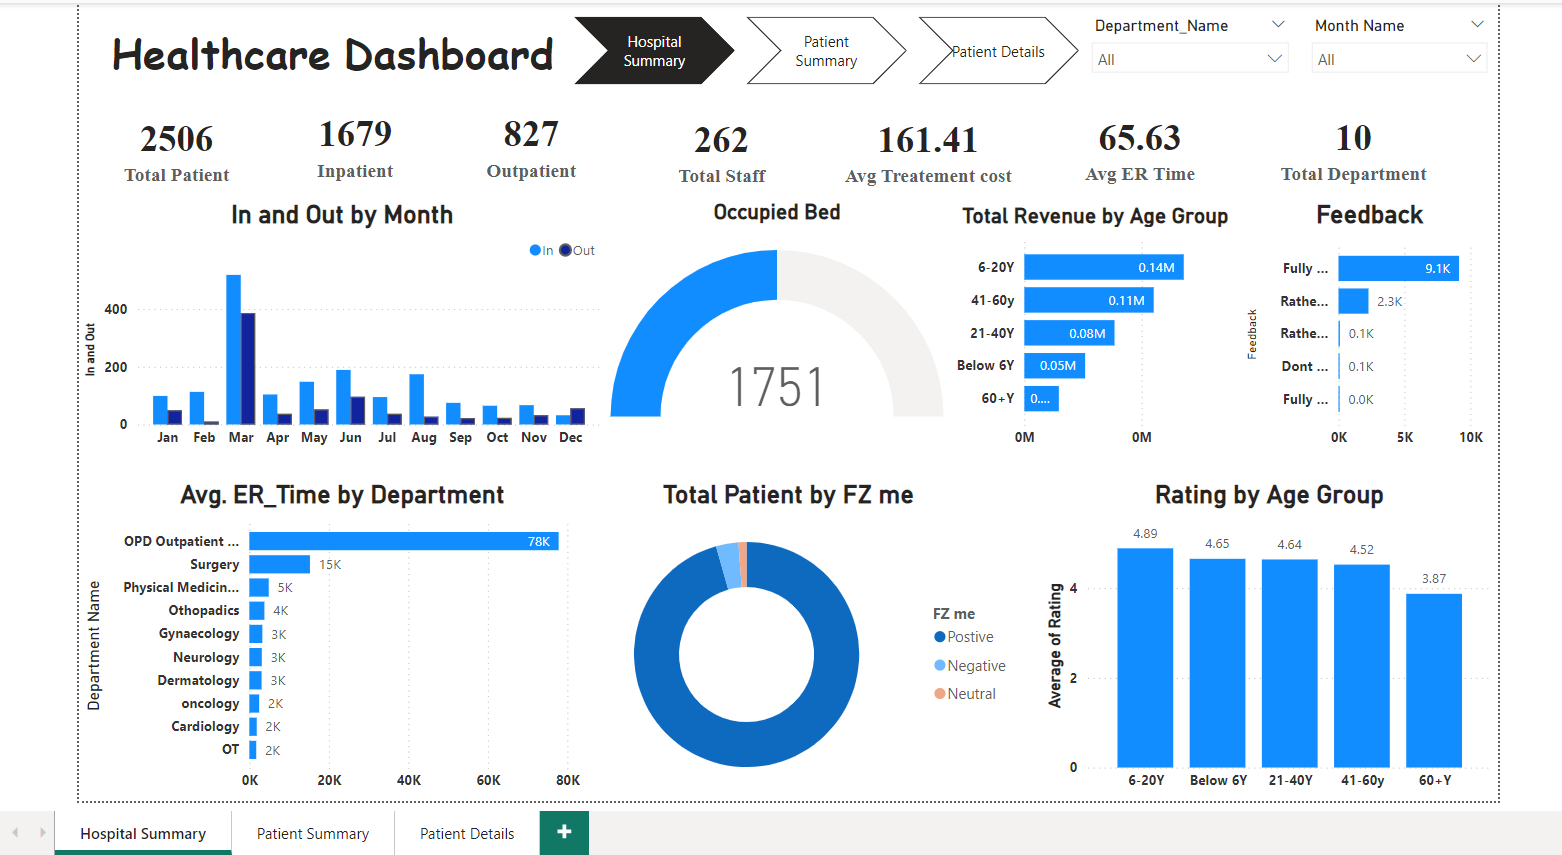

This screenshot's page, from the dashboard's own definition file:
{"tool":"powerbi","page":{"name":"Dashboard","canvas":[1280,720],"ordinal":0},"visuals":[{"type":"card","fields":{"Values":["CountNonNull(Detail data dataset.ID)"]},"box":[9.8,72.2,132,140.4],"z":0,"group":"g1"},{"type":"textbox","box":[9.8,16,452.2,65.1],"z":0},{"type":"card","fields":{"Values":["Detail data dataset.Total Inpatient"]},"box":[150.2,71.3,144.9,140.4],"z":1000,"group":"g1"},{"type":"slicer","fields":{"Values":["Department.Department_Name"]},"box":[818.3,16,197.8,61.4],"z":1000},{"type":"card","fields":{"Values":["Detail data dataset.Total Outpatient"]},"box":[302.3,75,144.9,140.4],"z":2000,"group":"g1"},{"type":"slicer","box":[1045.4,13.5,179.6,66.3],"z":2000},{"type":"card","fields":{"Values":["CountNonNull(Staff_Detail.Staff_Id)"]},"box":[454.8,71.9,144.9,140.4],"z":3000,"group":"g1"},{"type":"group","id":"g1","title":"Group 1","box":[9.8,71.3,1212.9,148.3],"z":3000},{"type":"card","fields":{"Values":["Avg(Detail data dataset.treatemencost)"]},"box":[599.6,76.9,183.1,140.1],"z":4000,"group":"g1"},{"type":"clusteredColumnChart","fields":{"Category":["Calendar.Week Name"],"Y":["Detail data dataset.Total Inpatient","Detail data dataset.Total Outpatient"]},"box":[0,222.2,363.6,275.6],"z":4000},{"type":"gauge","fields":{"Y":["Detail data dataset.No. of Bed"]},"box":[434.3,235.2,383.8,238.1],"z":4001},{"type":"barChart","fields":{"Category":["Detail data dataset.Feedback"],"Y":["Sum(Detail data dataset.Rating)"]},"box":[917.6,253.9,362.1,268.4],"z":4002},{"type":"card","fields":{"Values":["Avg(Detail data dataset.ER_Time)"]},"box":[898.3,77.1,145,140.1],"z":5000,"group":"g1"},{"type":"card","fields":{"Values":["CountNonNull(Detail data dataset.Staff_Id)"]},"box":[1077.7,78.3,145,141.3],"z":6000,"group":"g1"}]}

Visuals, with their boxes on the page's 1280x720 design canvas (x1, y1, x2, y2). These are canvas units, not pixel positions in the 1562x855 screenshot, which may show the page scaled, cropped or inside an application window:
card - CountNonNull(Detail data dataset.ID): (x1=10, y1=72, x2=142, y2=213)
textbox: (x1=10, y1=16, x2=462, y2=81)
card - Detail data dataset.Total Inpatient: (x1=150, y1=71, x2=295, y2=212)
slicer - Department.Department_Name: (x1=818, y1=16, x2=1016, y2=77)
card - Detail data dataset.Total Outpatient: (x1=302, y1=75, x2=447, y2=215)
slicer: (x1=1045, y1=14, x2=1225, y2=80)
card - CountNonNull(Staff_Detail.Staff_Id): (x1=455, y1=72, x2=600, y2=212)
"Group 1" group: (x1=10, y1=71, x2=1223, y2=220)
card - Avg(Detail data dataset.treatemencost): (x1=600, y1=77, x2=783, y2=217)
clusteredColumnChart - Calendar.Week Name x Detail data dataset.Total Inpatient: (x1=0, y1=222, x2=364, y2=498)
gauge - Detail data dataset.No. of Bed: (x1=434, y1=235, x2=818, y2=473)
barChart - Detail data dataset.Feedback x Sum(Detail data dataset.Rating): (x1=918, y1=254, x2=1280, y2=522)
card - Avg(Detail data dataset.ER_Time): (x1=898, y1=77, x2=1043, y2=217)
card - CountNonNull(Detail data dataset.Staff_Id): (x1=1078, y1=78, x2=1223, y2=220)
